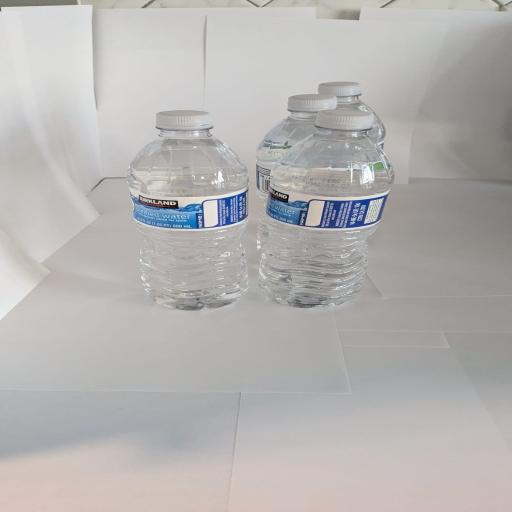waterbottle: (260, 109, 393, 307), (128, 111, 248, 310), (256, 94, 336, 249), (319, 82, 385, 148)
